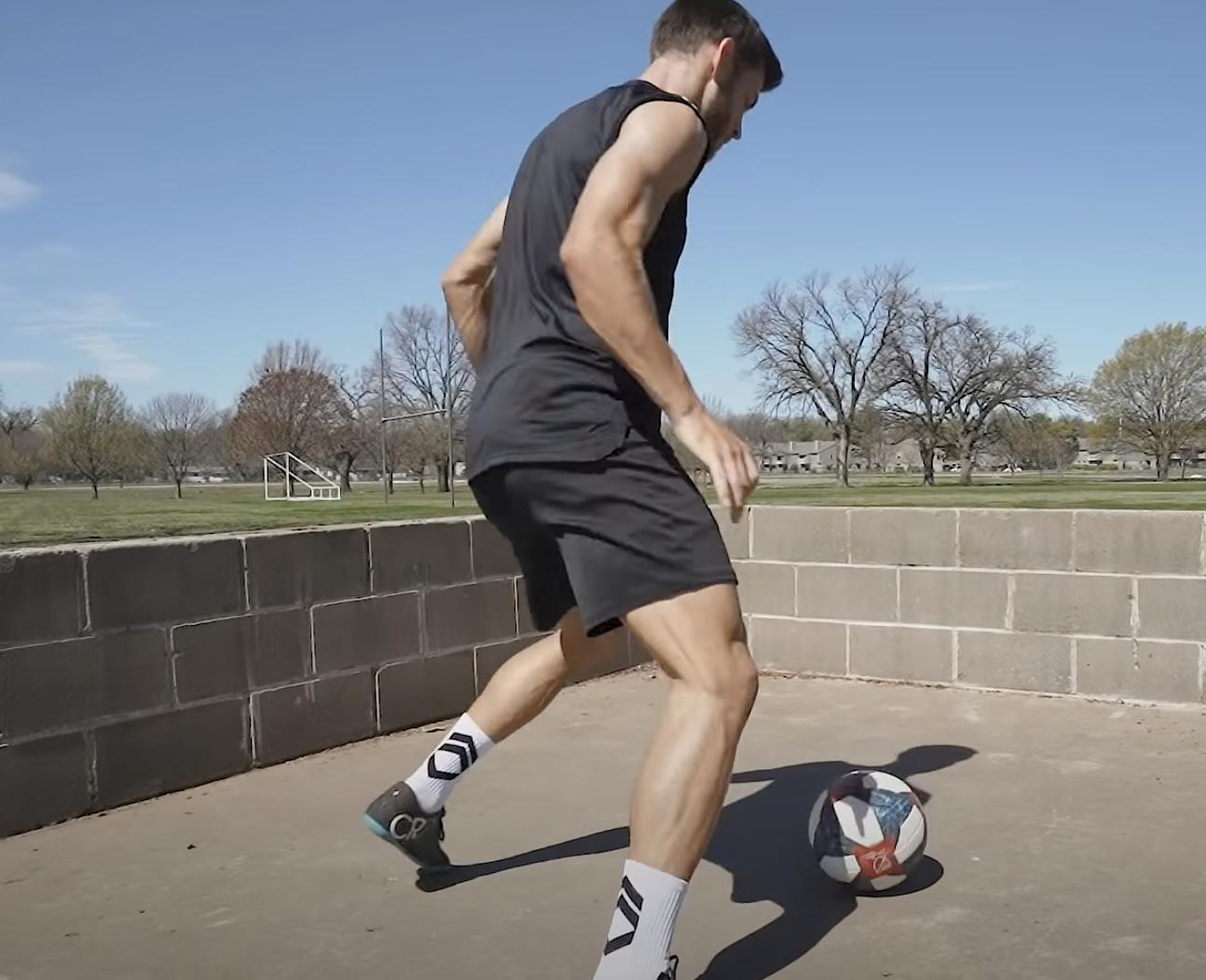ball: (799, 770, 932, 886)
foot: (359, 768, 455, 880)
person: (366, 0, 786, 980)
